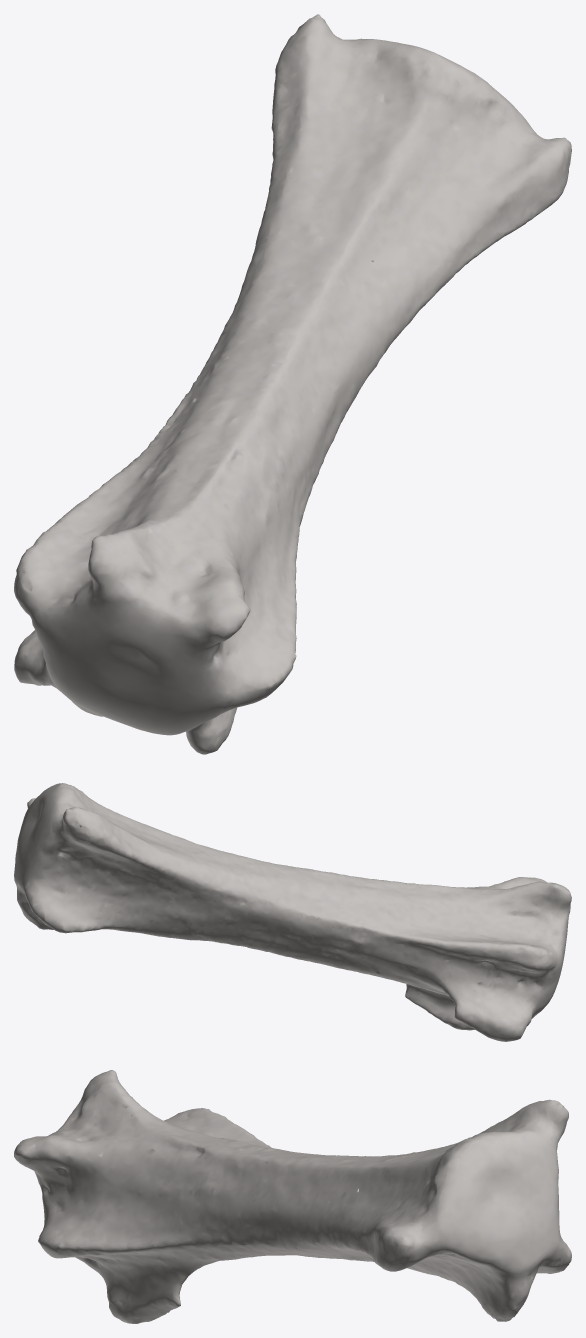
3 views of the same model, one above another, from view 1: azimuth 30°, elevation 25°; view 2: azimuth 150°, elevation 25°; view 3: azimuth 270°, elevation 25° (orthographic). The views are drawn at different scales.
Parts seen in each view (by area): view 1: SW_10_Katze.001; view 2: SW_10_Katze.001; view 3: SW_10_Katze.001.
Part boxes in pixels (x1=…): SW_10_Katze.001: x1=14, y1=14, x2=571, y2=754; SW_10_Katze.001: x1=14, y1=783, x2=571, y2=1041; SW_10_Katze.001: x1=14, y1=1070, x2=571, y2=1323.
Size of the model in its own units: 2023 by 1265 by 1744.
Materials: 1 (1 with a texture image).
